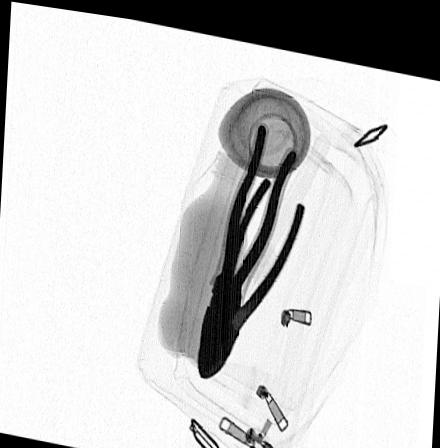Pliers: (203, 113, 301, 348), (196, 166, 307, 373)
